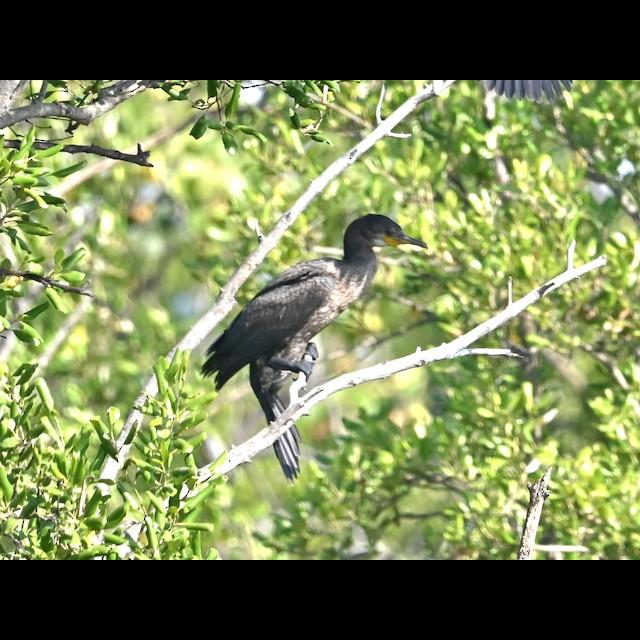cormorant: (201, 214, 429, 482)
